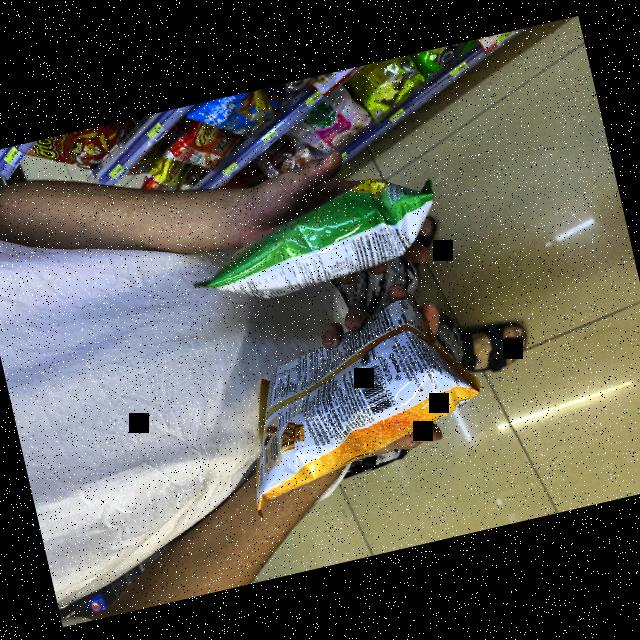snack_bag: (212, 269, 502, 522), (183, 157, 455, 325)
